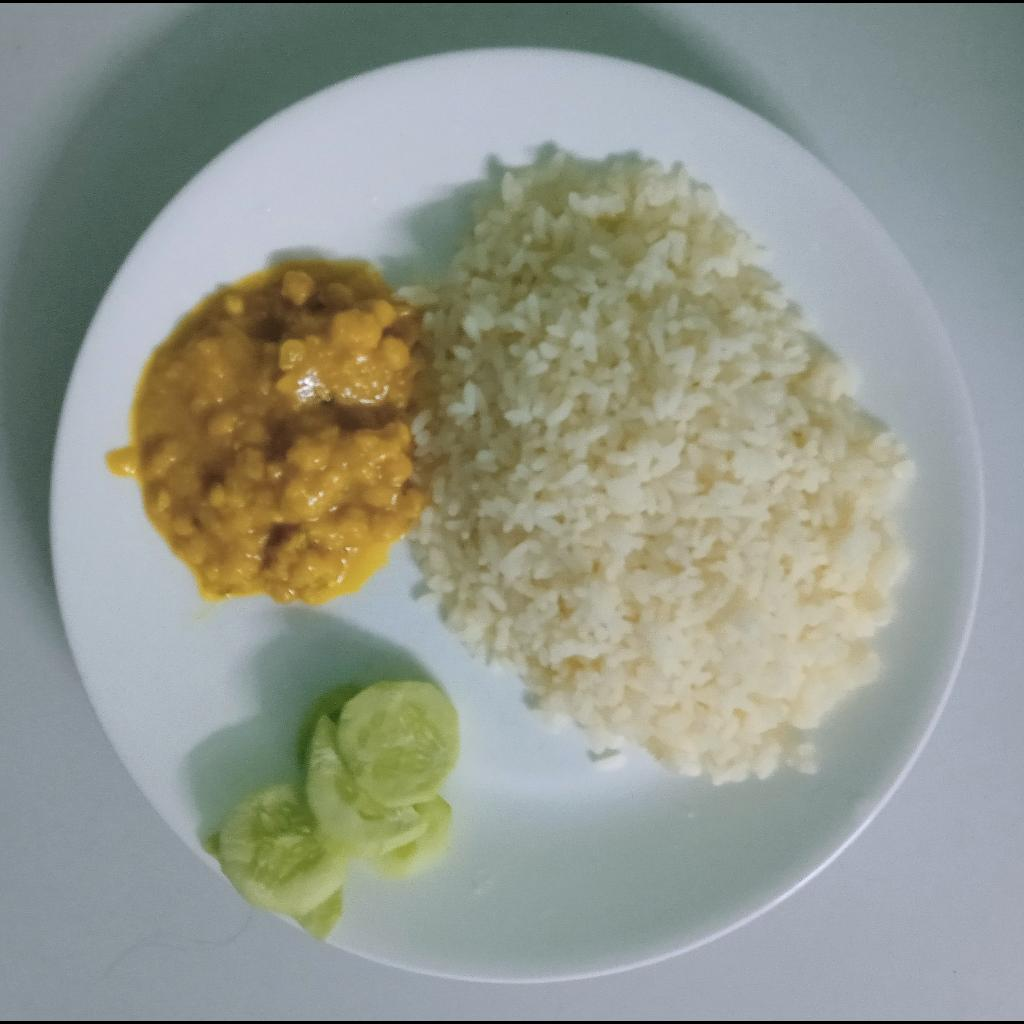cucumber: (199, 681, 462, 943)
daal: (132, 260, 420, 603)
rice: (391, 150, 910, 784)
